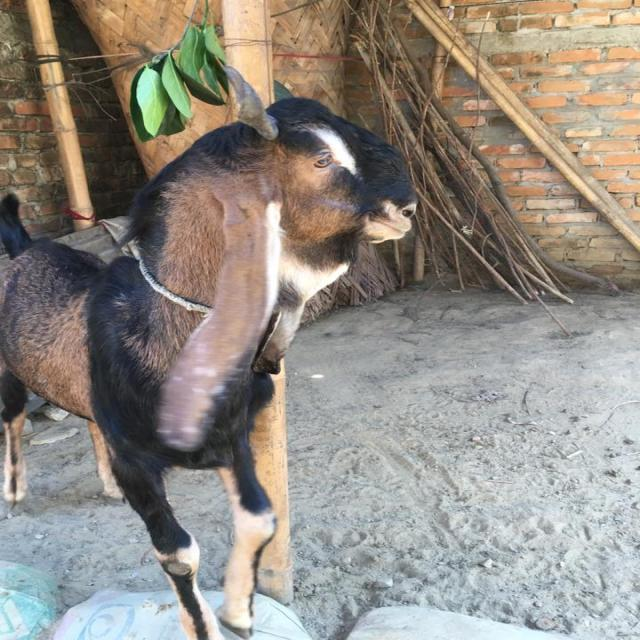Goat: (0, 63, 419, 639)
